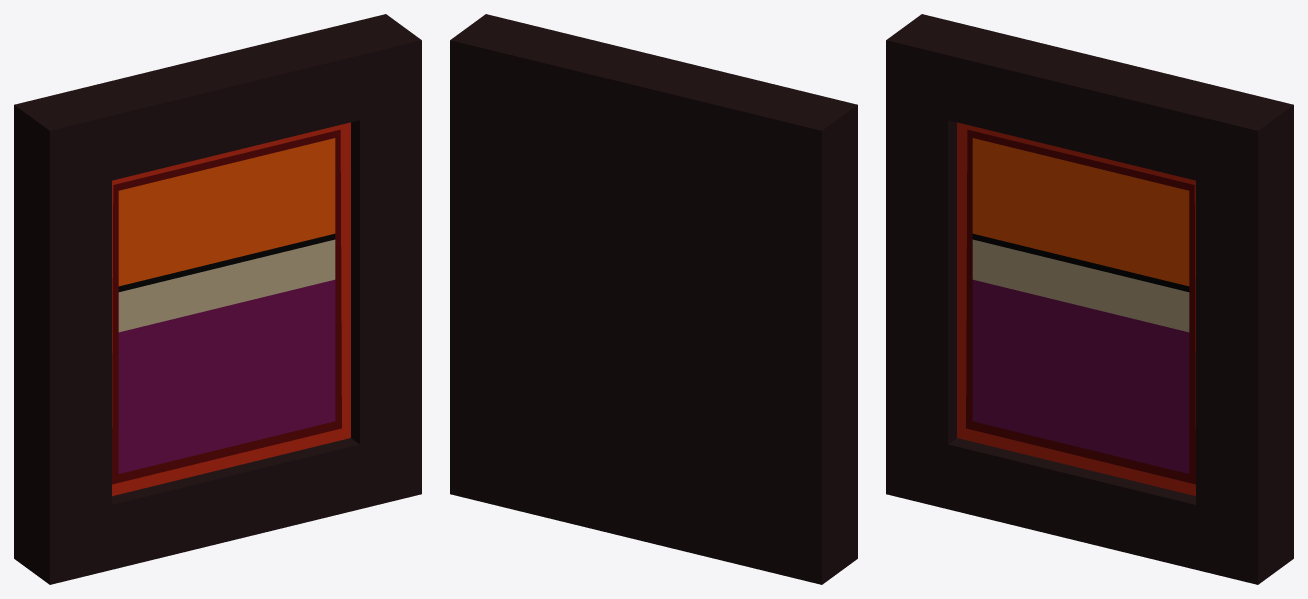
File: painting_rothko.dae
The picture shows the model from 3 angles, left to right: view 1: azimuth 30°, elevation 25°; view 2: azimuth 150°, elevation 25°; view 3: azimuth 330°, elevation 25°; orthographic projection.
Visible parts, largest first — view 1: painting_rothko_MSH; view 2: painting_rothko_MSH; view 3: painting_rothko_MSH.
Boxes of the visible parts, box(x1,y1,x2,y2) form: painting_rothko_MSH: box(14, 14, 421, 584); painting_rothko_MSH: box(450, 14, 857, 584); painting_rothko_MSH: box(886, 14, 1293, 584).
Size of the model in its own units: 0.75 by 0.875 by 0.125.
